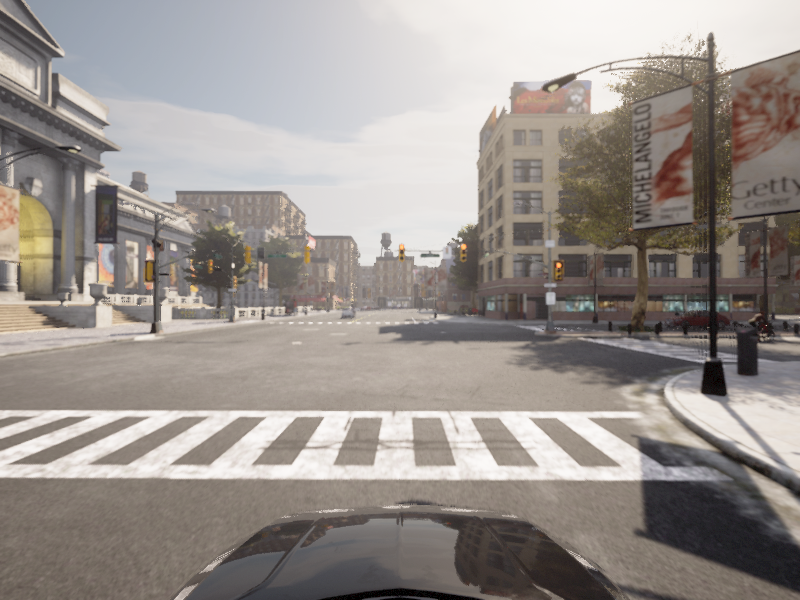vehicle: (660, 310, 734, 329), (738, 310, 780, 342)
